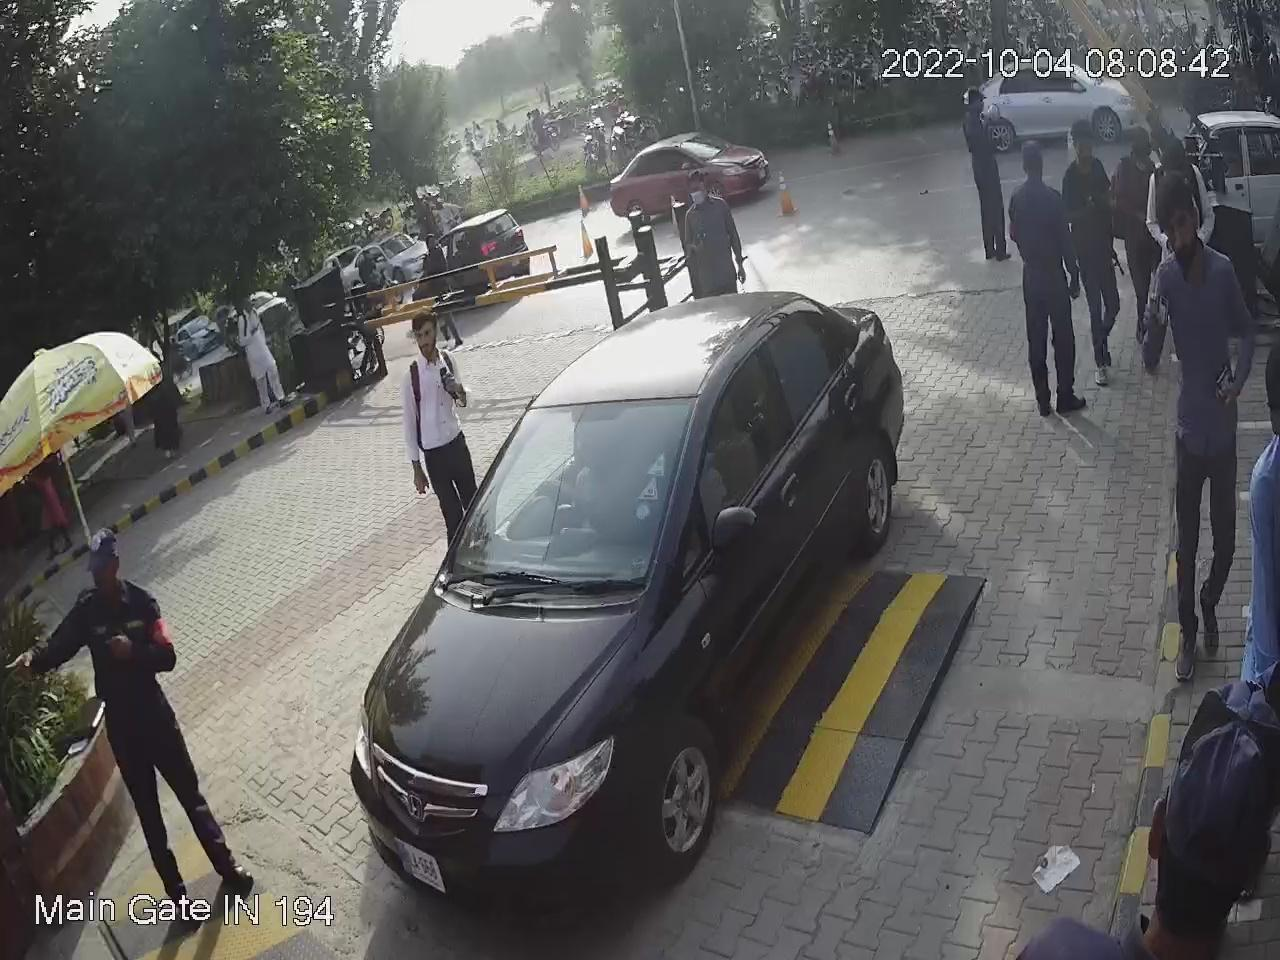windshield: (428, 390, 716, 600)
